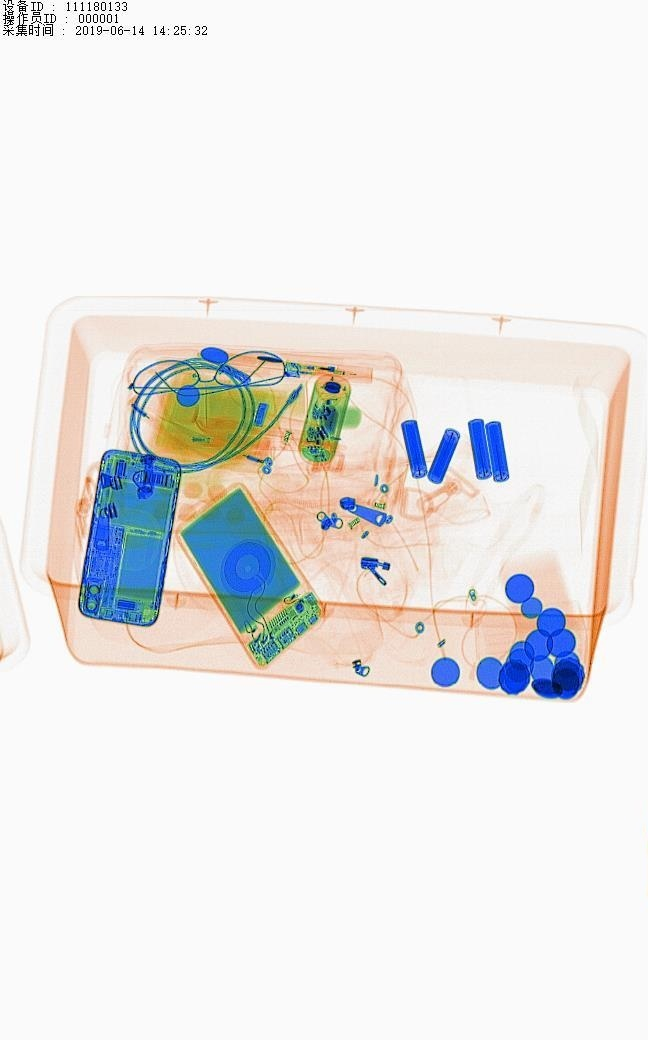NonmetallicFire: (285, 355, 387, 390)
